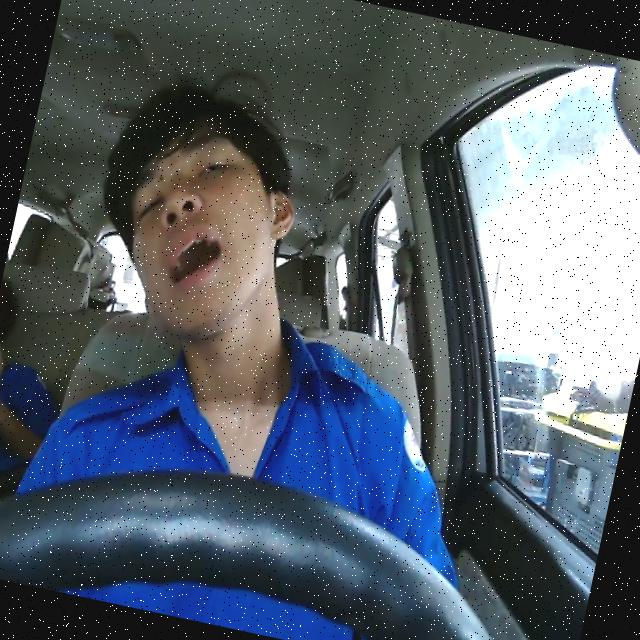yarning: (104, 105, 308, 356)
